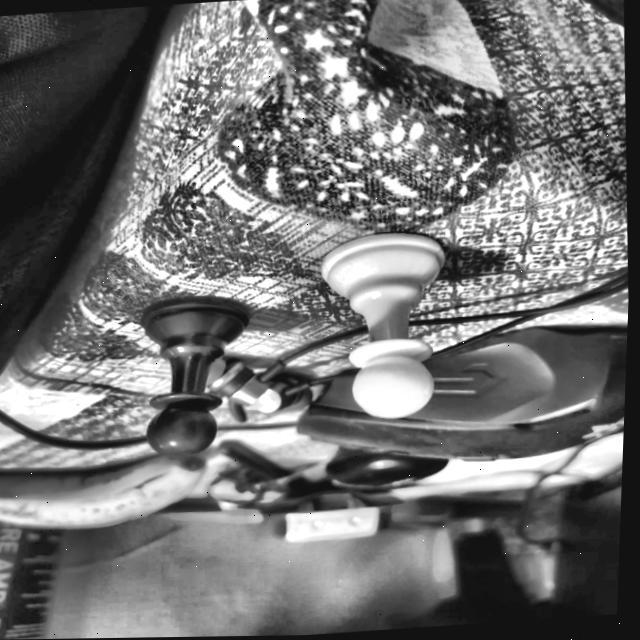BlackPawn: (134, 294, 261, 462)
WhitePawn: (313, 232, 458, 424)
